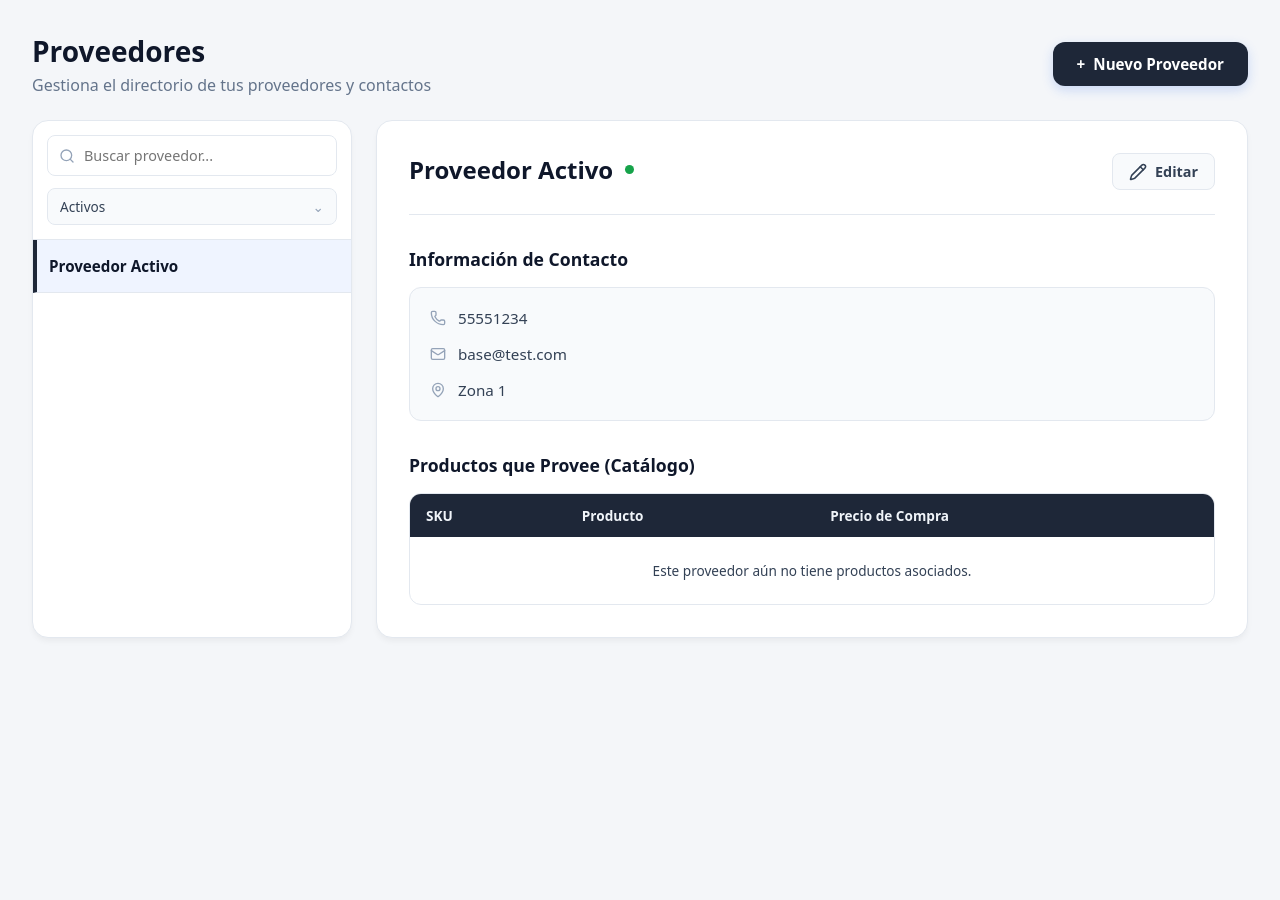
Scenario: Flujo comercial completo: Proveedores › desactivación: pide confirmación y no salta la selección a otro proveedor mientras el modal sigue abierto
Step 1. Click the button with class "btn-icon-action" → x=1164, y=172, box [1112,153,1215,190]
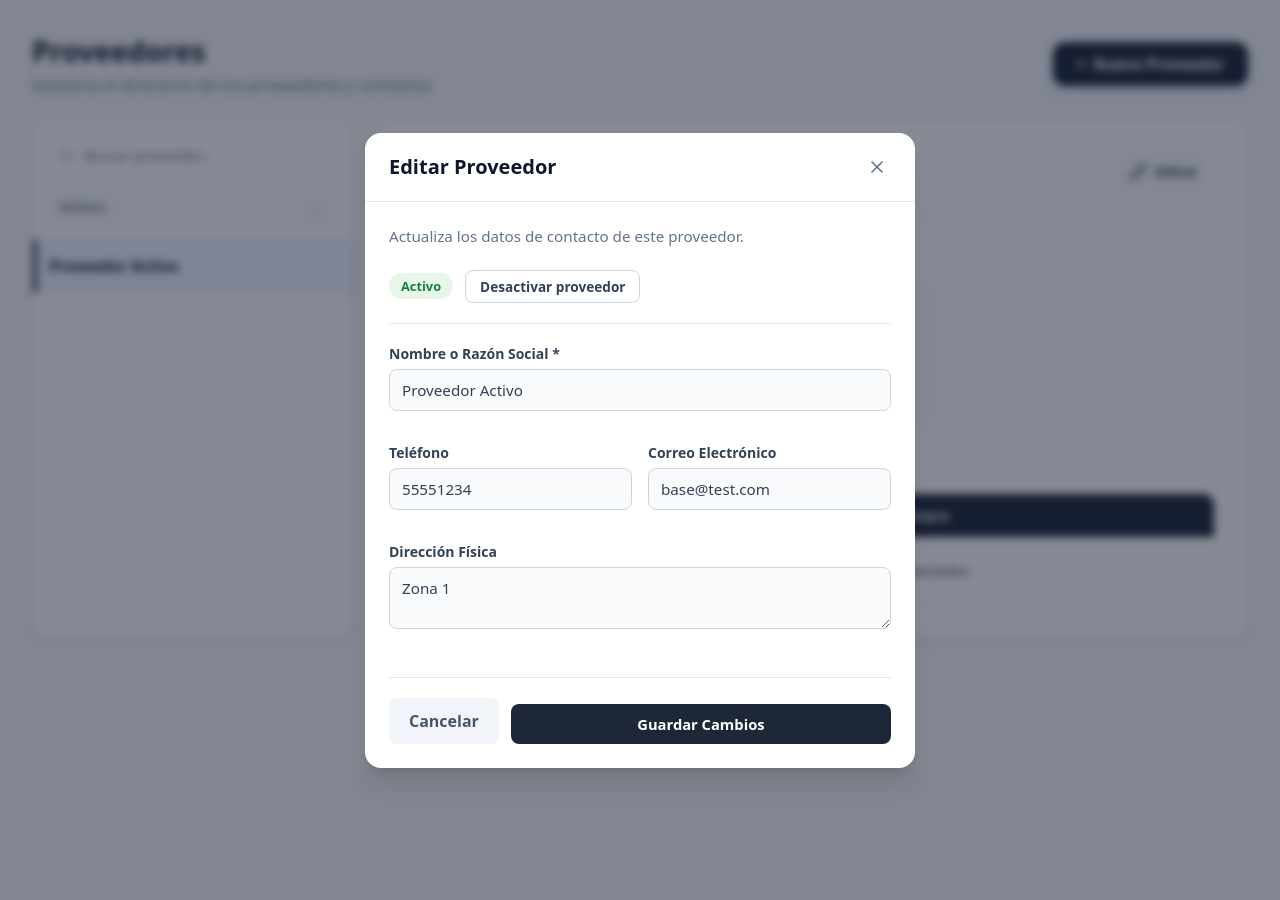
Step 2. Click the button with class "btn-status-toggle" → x=553, y=286, box [465,270,640,302]
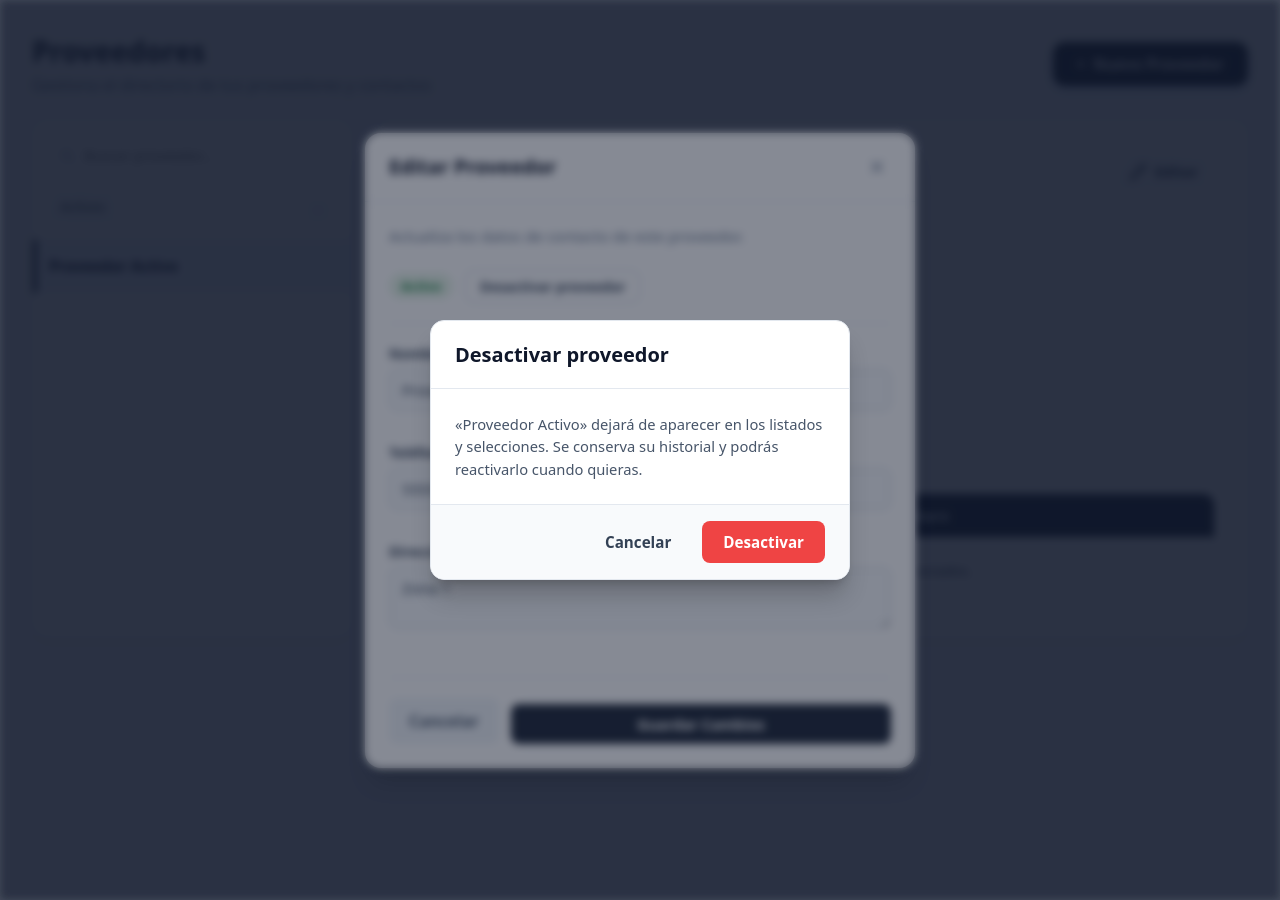
Result: the text "Desactivar proveedor" is shown at [465,270,640,302]
Step 3. Click the button with class "btn-danger" → x=764, y=542, box [702,521,825,563]
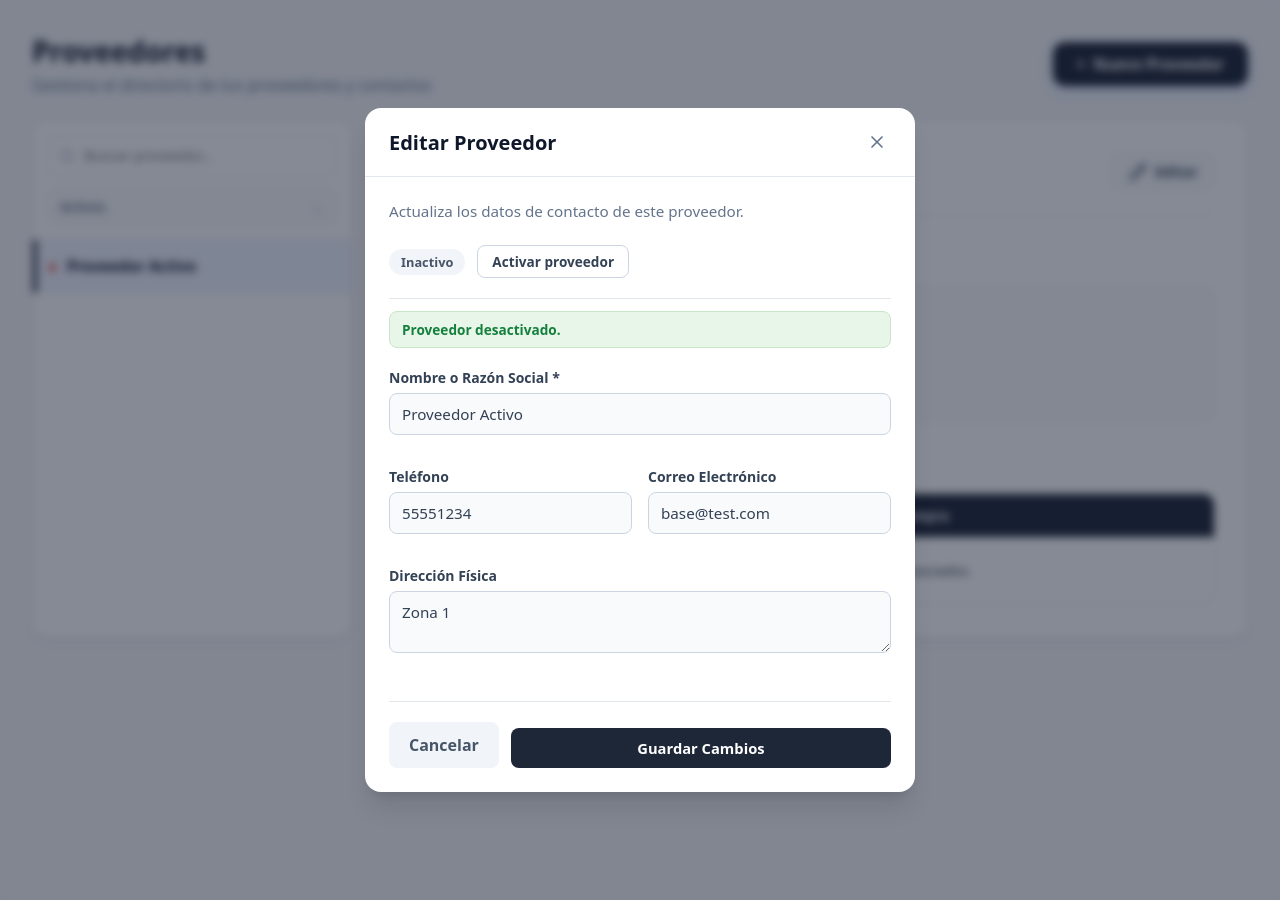
Expected: the heading with class "detail-name" reads "Proveedor Activo", [409,153,613,186]
Expected: the 1st element with class "status-dot--inactive" is shown, [625,165,634,174]
Step 4. Click the button with class "btn-close" → x=877, y=142, box [863,128,891,156]
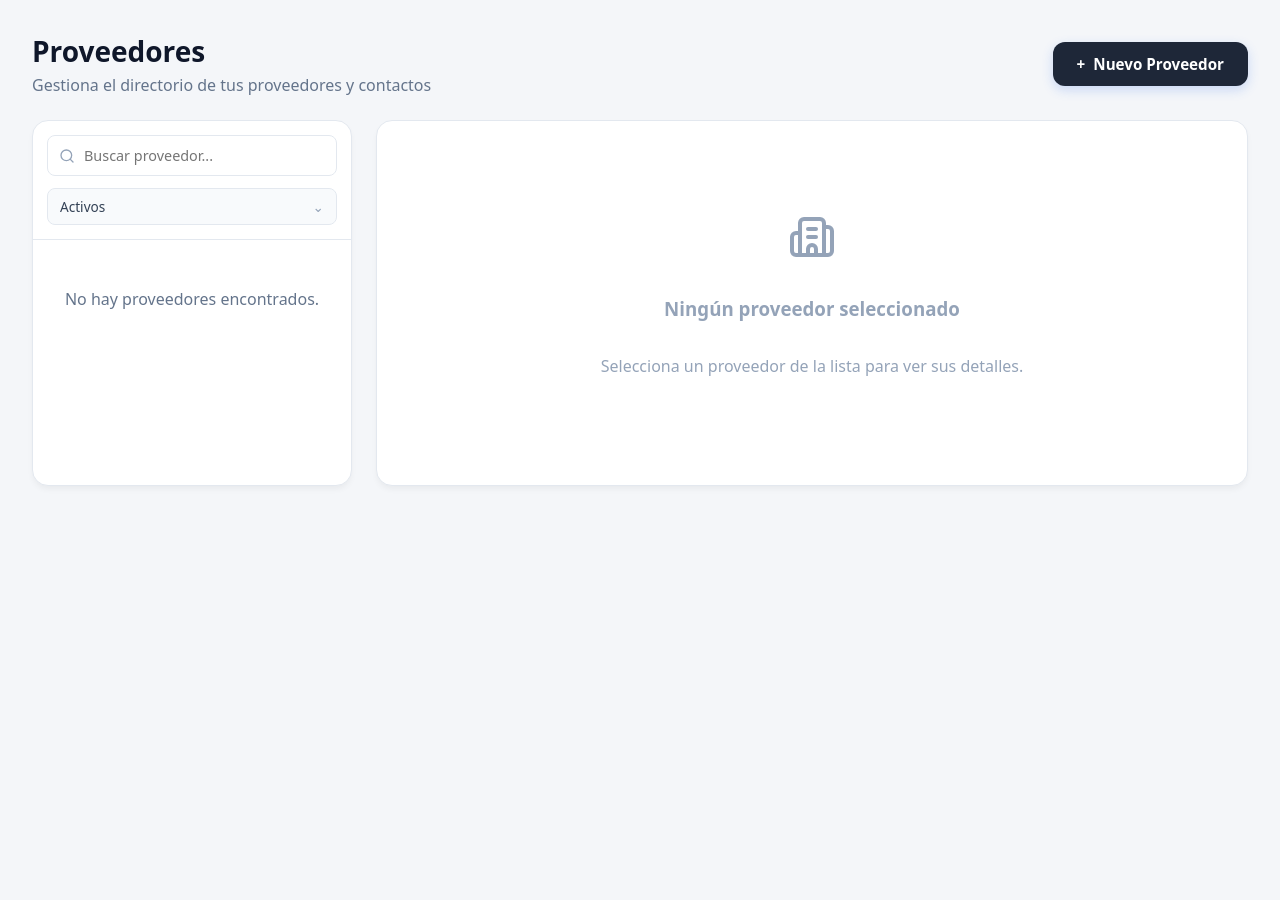
Result: the text "No hay proveedores encontrados." is shown at [65,288,319,310]
